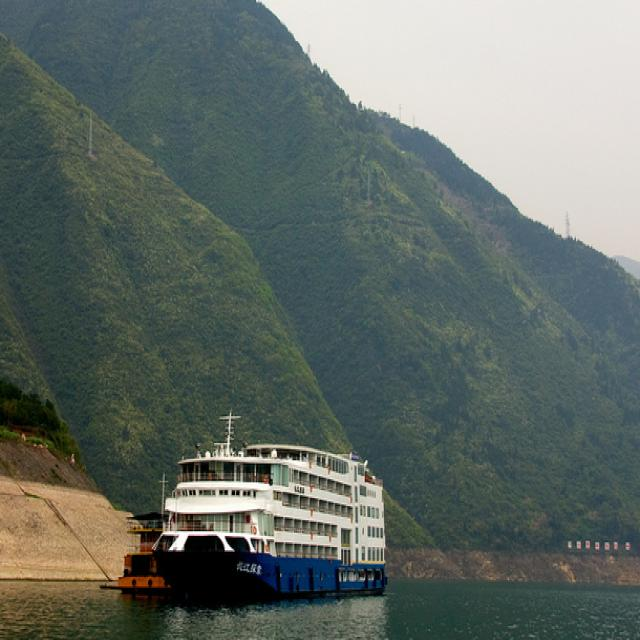passenger ship: (154, 396, 389, 597)
